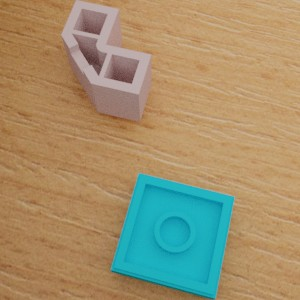lego: (110, 172, 234, 299), (61, 0, 151, 122)
